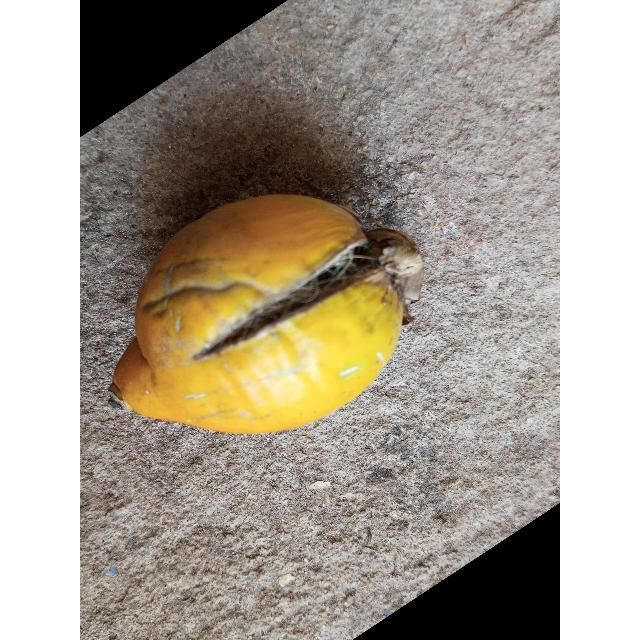damaged: (109, 194, 423, 438)
